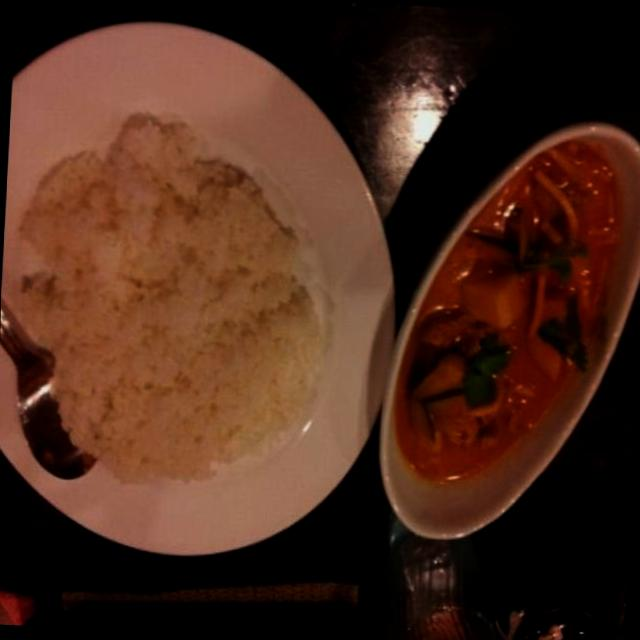Rice: (36, 123, 320, 494)
